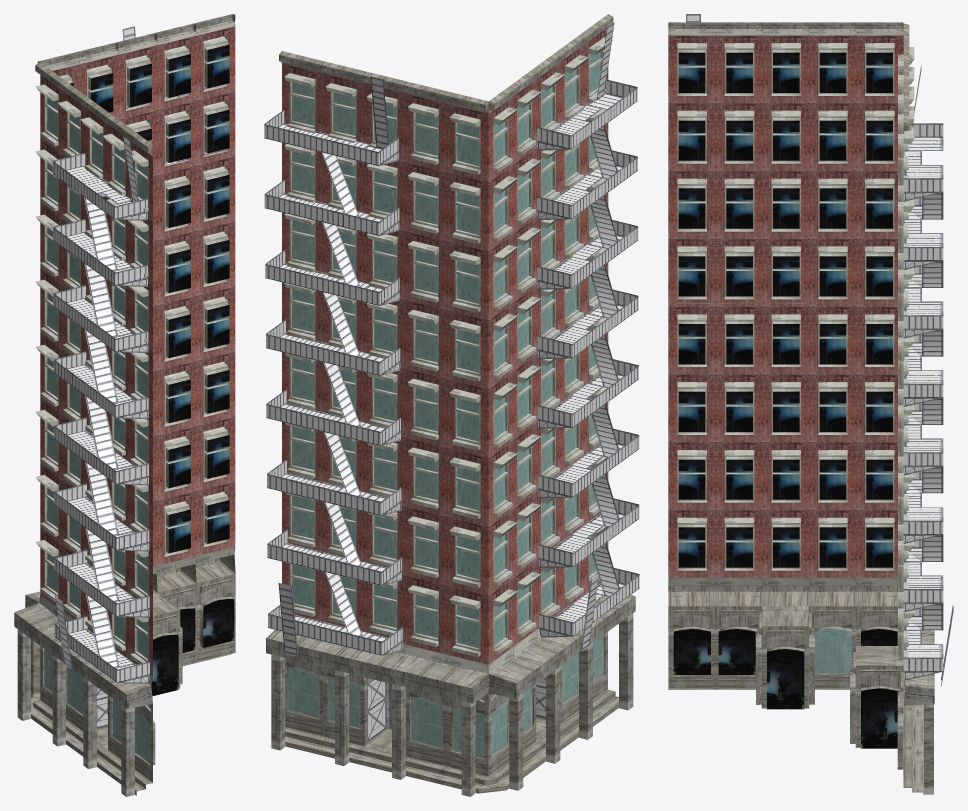
The model's file is Building_09.fbx.
The picture shows the model from 3 angles, left to right: view 1: azimuth 30°, elevation 25°; view 2: azimuth 150°, elevation 25°; view 3: azimuth 270°, elevation 25°; orthographic projection. The views are drawn at different scales.
Parts seen in each view (by area): view 1: Building_09; view 2: Building_09; view 3: Building_09.
Boxes of the visible parts, x1=… form: Building_09: x1=14, y1=14, x2=235, y2=796; Building_09: x1=264, y1=14, x2=639, y2=796; Building_09: x1=668, y1=14, x2=953, y2=794.
Bounding box in the file's own units: 1088 × 2862 × 1089.
